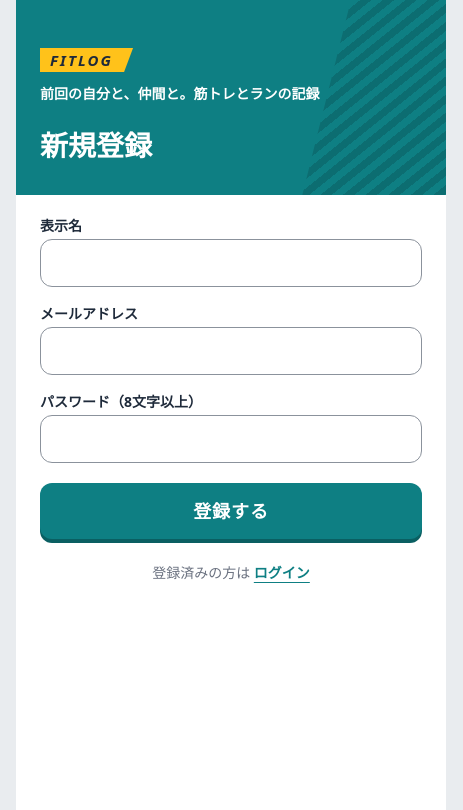
SignupForm（S-02） › 知らないエラーでも汎用の日本語を出す
Step 1. Type "ゆうす" into the field labelled "表示名" → (231, 263), box [40,239,422,287]
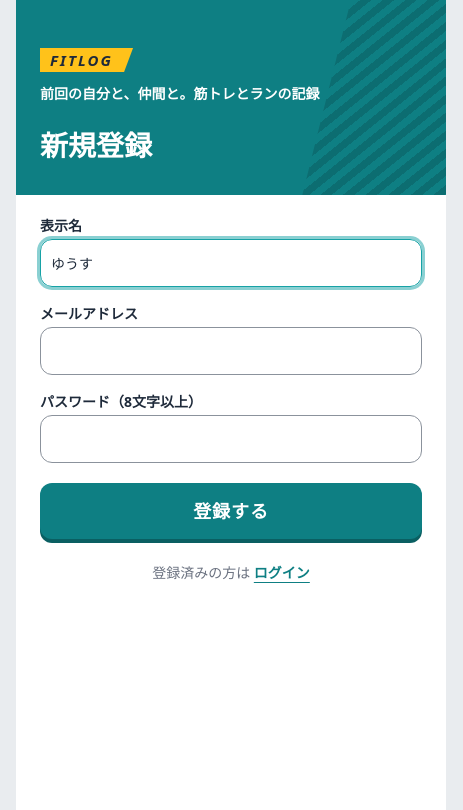
Step 2. Type "a@example.com" into the field labelled "メールアドレス" → (231, 351), box [40,327,422,375]
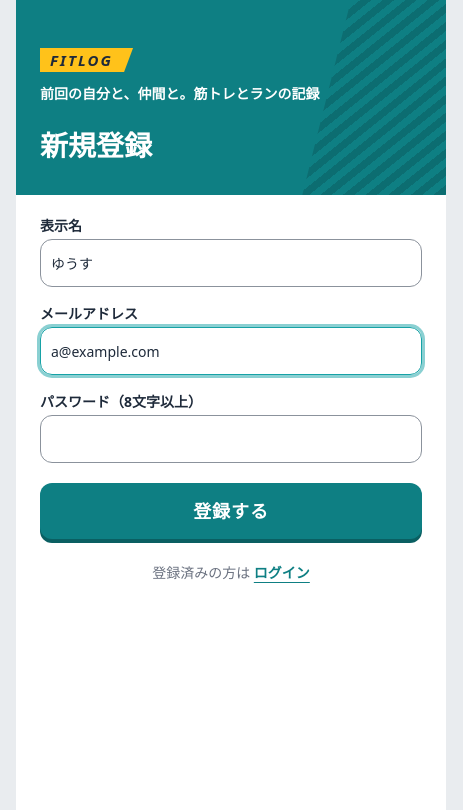
Step 3. Type "password123" into the password field labelled "パスワード（8文字以上）" → (231, 439), box [40,415,422,463]
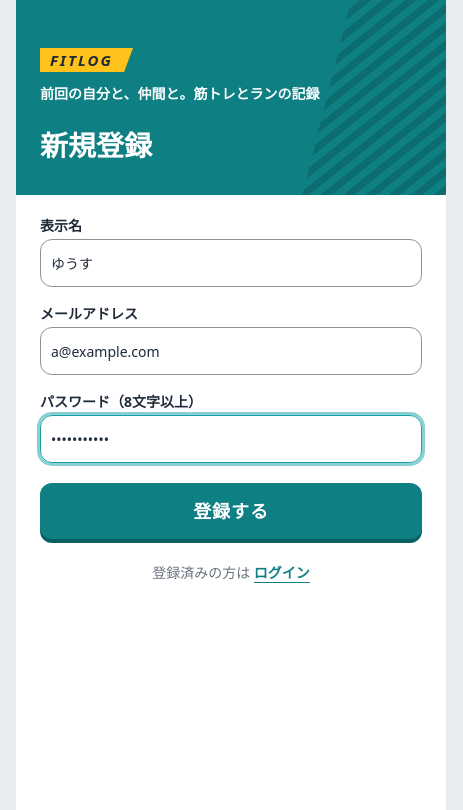
Step 4. Click the button "登録する" → click(231, 511), box [40,483,422,539]
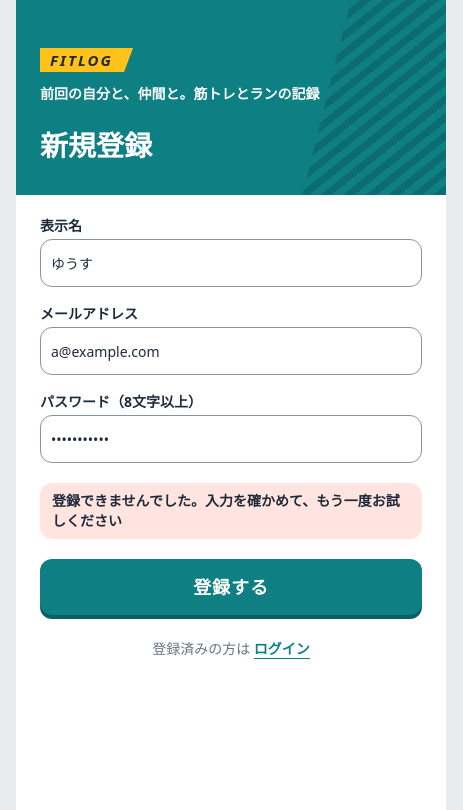
Check: the message shows "登録できませんでした", box [52,491,400,530]
